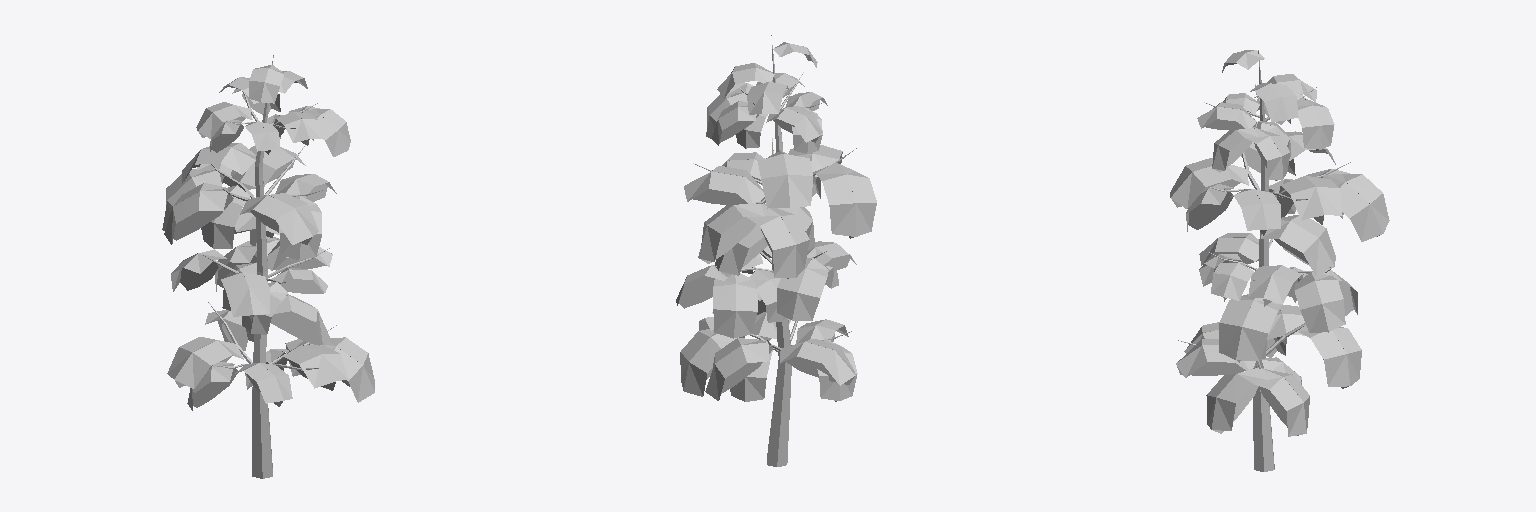
Rendered from tree8.obj.
The picture shows the model from 3 angles: view 1: azimuth 30°, elevation 25°; view 2: azimuth 150°, elevation 25°; view 3: azimuth 270°, elevation 25°; orthographic projection.
Visible parts, largest first — view 1: treeBirch:null_; view 2: treeBirch:null_; view 3: treeBirch:null_.
Part boxes in pixels (left/top/right/bottom): treeBirch:null_: left=162, top=55, right=374, bottom=478; treeBirch:null_: left=676, top=35, right=876, bottom=466; treeBirch:null_: left=1170, top=50, right=1389, bottom=471.
Size of the model in its own units: 41.87 by 89.66 by 42.02.